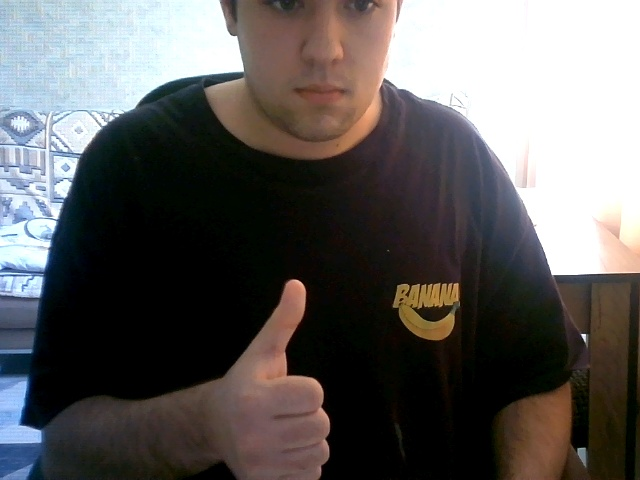good: (218, 279, 330, 480)
